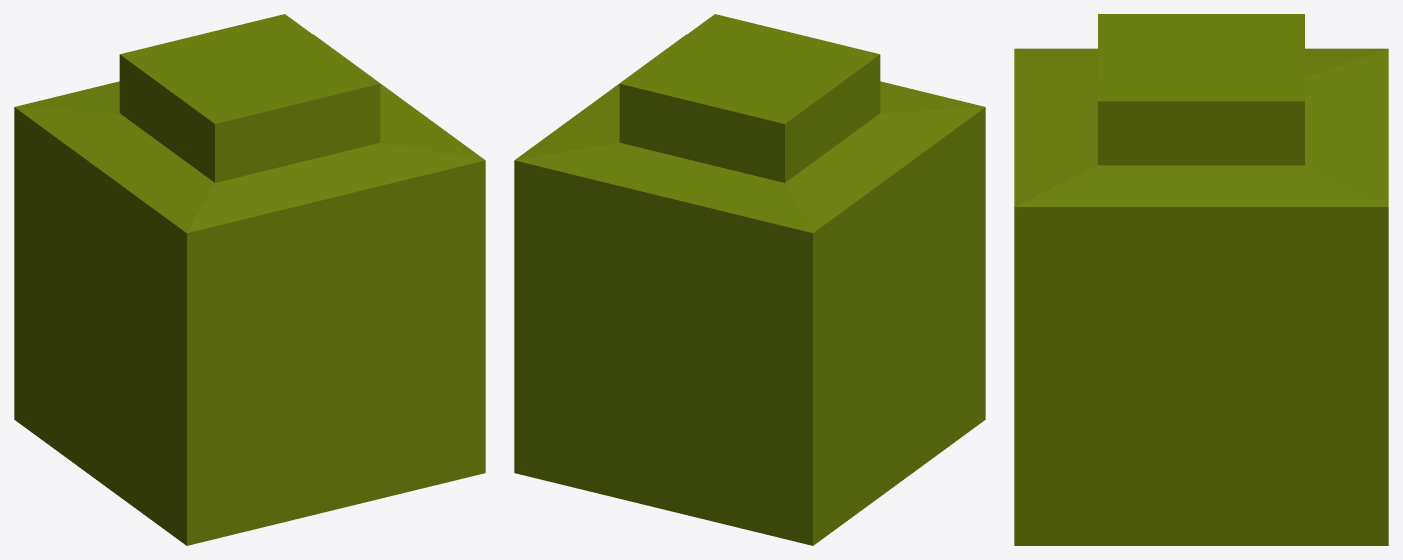
The model's file is Anim_test.DAE.
The picture shows the model from 3 angles, left to right: view 1: azimuth 30°, elevation 25°; view 2: azimuth 150°, elevation 25°; view 3: azimuth 270°, elevation 25°; orthographic projection. The views are drawn at different scales.
Parts seen in each view (by area): view 1: Box01; view 2: Box01; view 3: Box01.
Part boxes in pixels (<box>): Box01: <box>14,14,485,545</box>; Box01: <box>514,14,985,545</box>; Box01: <box>1014,14,1388,545</box>.
Bounding box in the file's own units: 100 × 100 × 121.
